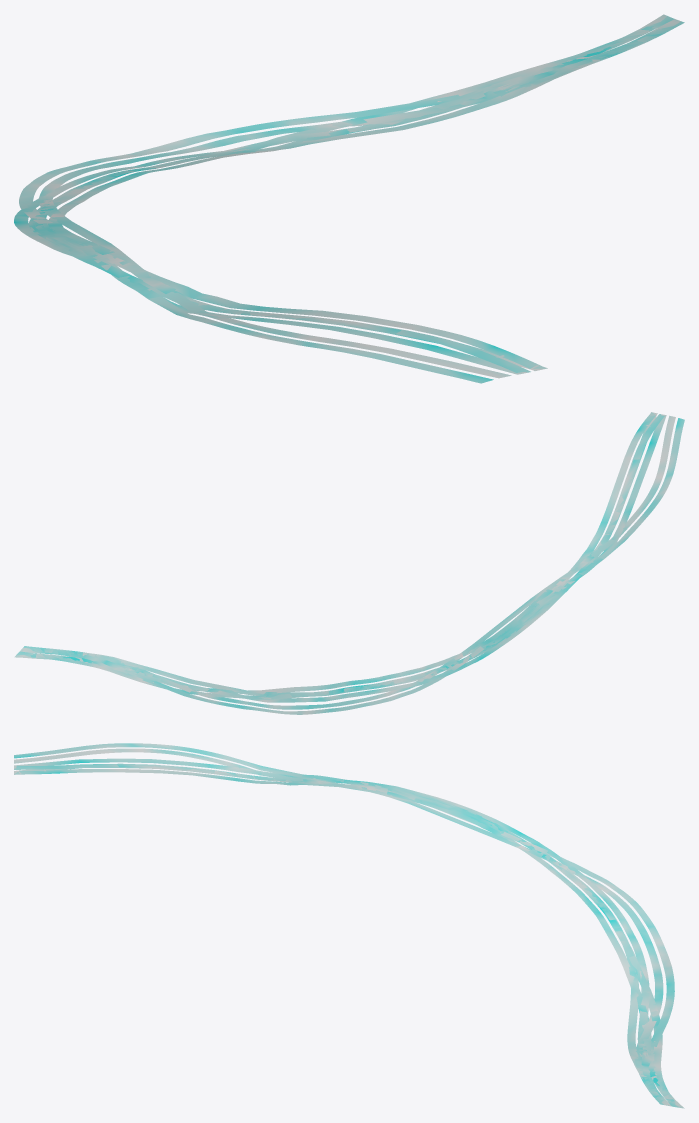
3 views of the same model, one above another, from view 1: azimuth 30°, elevation 25°; view 2: azimuth 150°, elevation 25°; view 3: azimuth 270°, elevation 25° (orthographic). The views are drawn at different scales.
Parts seen in each view (by area): view 1: SpaceCenter_Long3_GenerateRoad_Sand_TireTracks_Narrow_Mesh_x; view 2: SpaceCenter_Long3_GenerateRoad_Sand_TireTracks_Narrow_Mesh_x; view 3: SpaceCenter_Long3_GenerateRoad_Sand_TireTracks_Narrow_Mesh_x.
Part boxes in pixels (bbox=[...]): SpaceCenter_Long3_GenerateRoad_Sand_TireTracks_Narrow_Mesh_x: bbox=[14, 14, 684, 383]; SpaceCenter_Long3_GenerateRoad_Sand_TireTracks_Narrow_Mesh_x: bbox=[14, 412, 684, 714]; SpaceCenter_Long3_GenerateRoad_Sand_TireTracks_Narrow_Mesh_x: bbox=[14, 743, 684, 1108].
Size of the model in its own units: 1754 by 1506 by 415.
